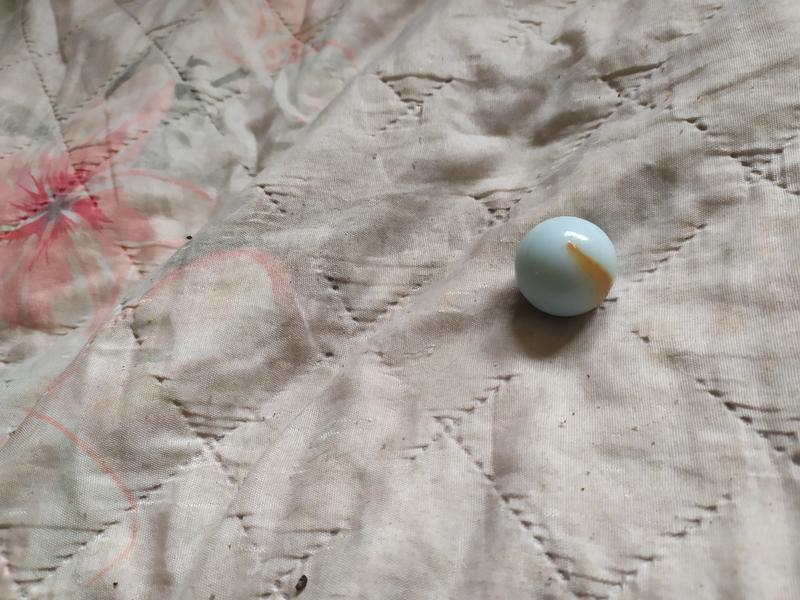Warning: (511, 213, 621, 320)
